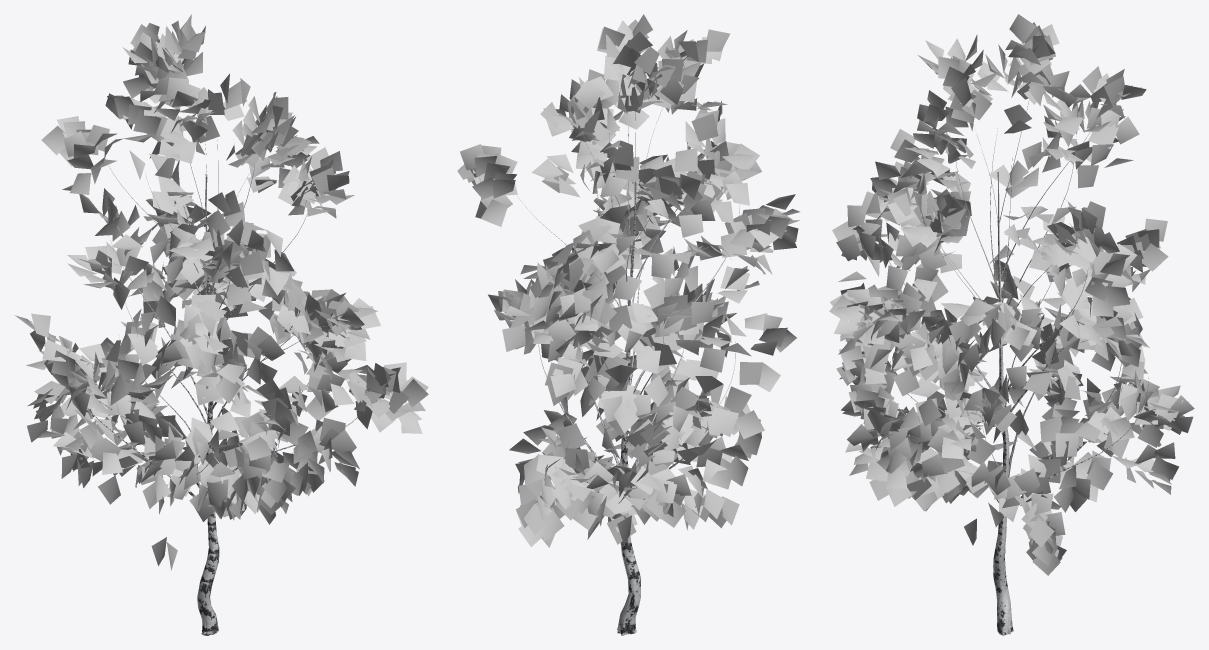
The model's file is 00734 _Birch 03 2 lod1.FBX.
3 views of the same model, side by side, from view 1: azimuth 30°, elevation 25°; view 2: azimuth 150°, elevation 25°; view 3: azimuth 270°, elevation 25° (orthographic). The views are drawn at different scales.
Visible parts, largest first — view 1: 00734 _Birch 03 003; view 2: 00734 _Birch 03 003; view 3: 00734 _Birch 03 003.
Boxes of the visible parts, box(x1,y1,x2,y2) form: 00734 _Birch 03 003: box(14, 14, 428, 635); 00734 _Birch 03 003: box(457, 14, 800, 635); 00734 _Birch 03 003: box(829, 14, 1194, 635).
Bounding box in the file's own units: 3.81 × 7.49 × 4.1.
